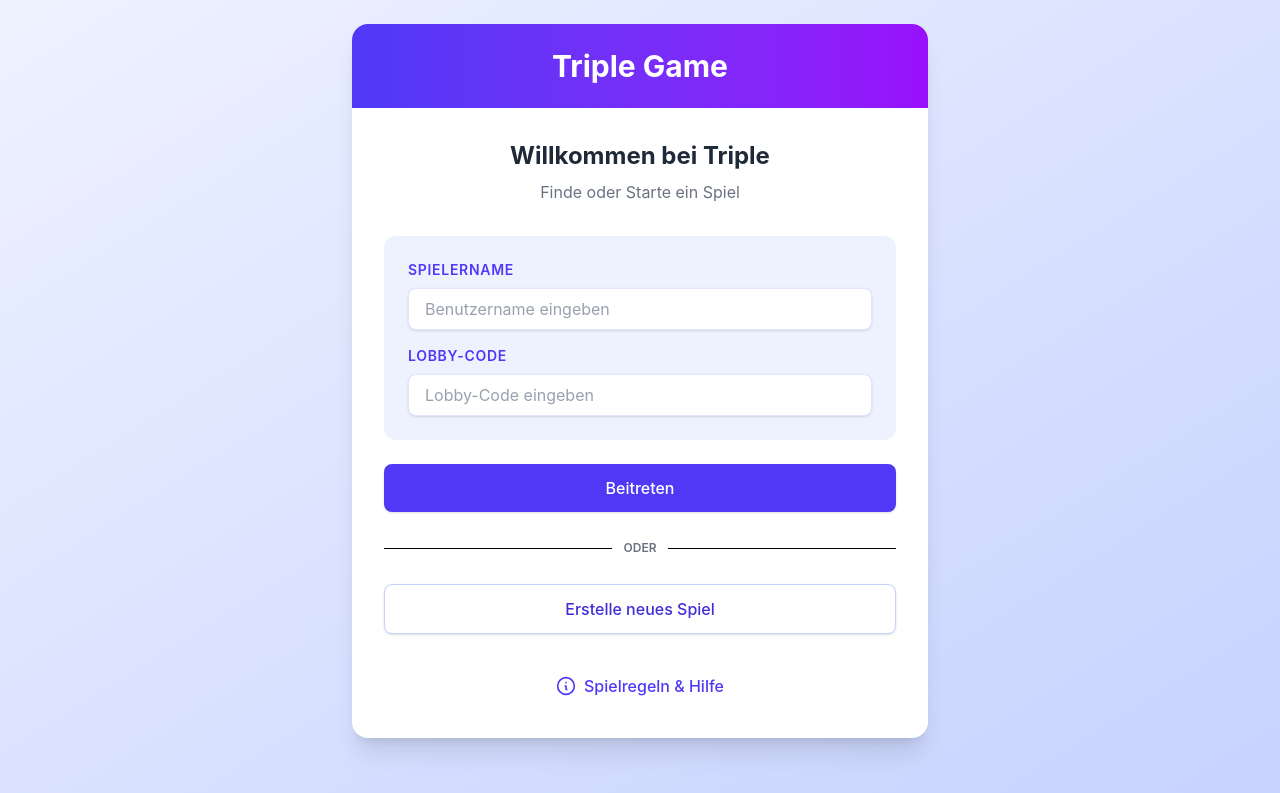
Test: LandingPage › should show error message when username is empty
The width and height of the screenshot is (1280, 793).
// Click create lobby button without entering username
Click the button with test id "create-game-button".
click(640, 609)  # box [384,584,896,634]
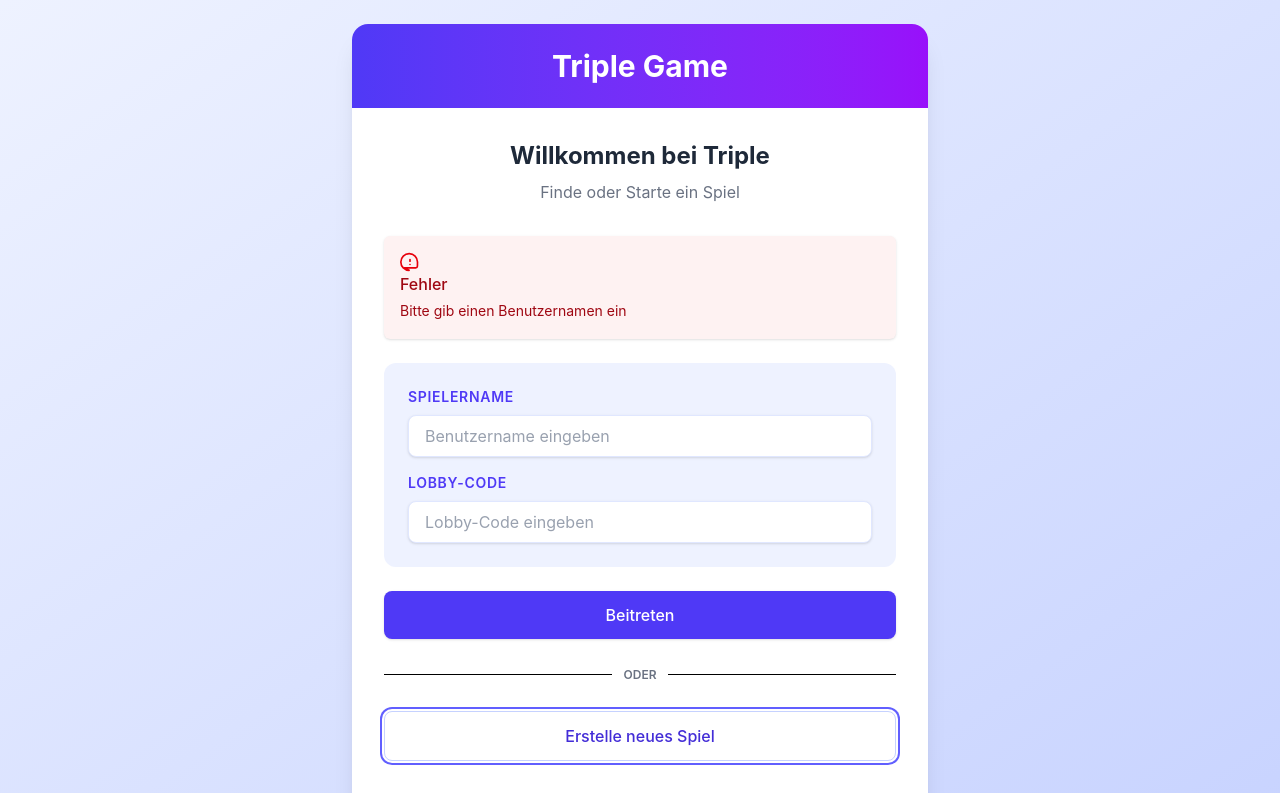
Check: the text "Bitte gib einen Benutzernamen ein" is shown, box [400,302,627,319]
